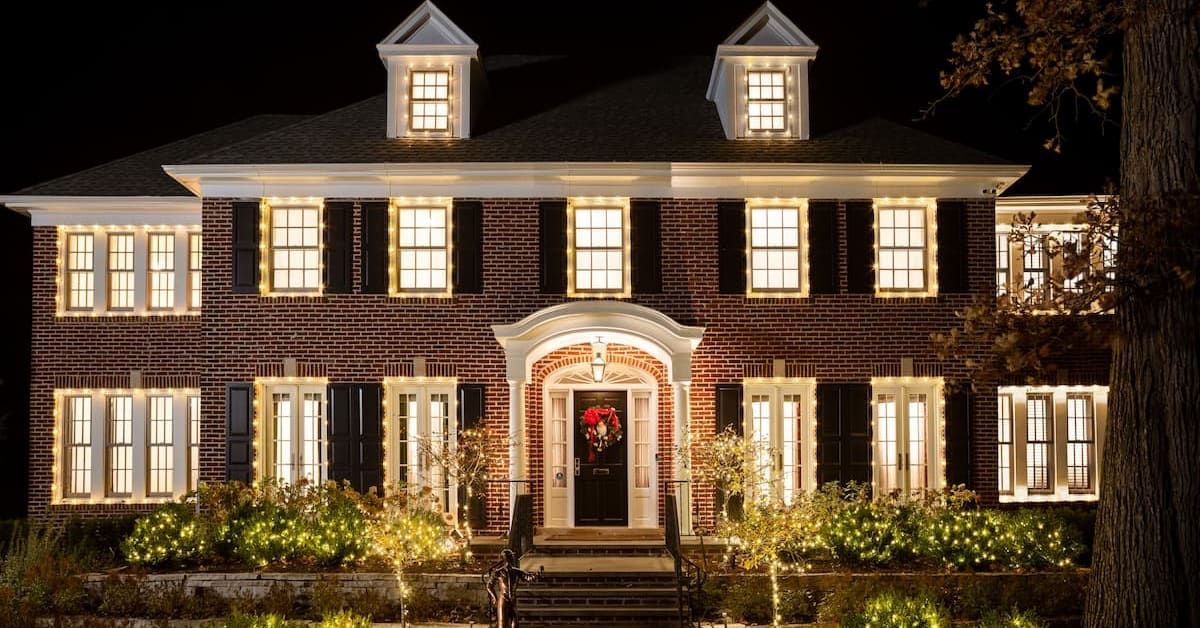Window: (52, 384, 203, 508), (55, 225, 203, 317), (995, 383, 1108, 500), (382, 373, 460, 499), (742, 378, 817, 501), (872, 375, 939, 502), (255, 376, 327, 492), (260, 195, 328, 300), (745, 200, 812, 299), (392, 196, 455, 298), (875, 197, 939, 296), (569, 198, 630, 294), (737, 61, 796, 137), (402, 67, 454, 130)
